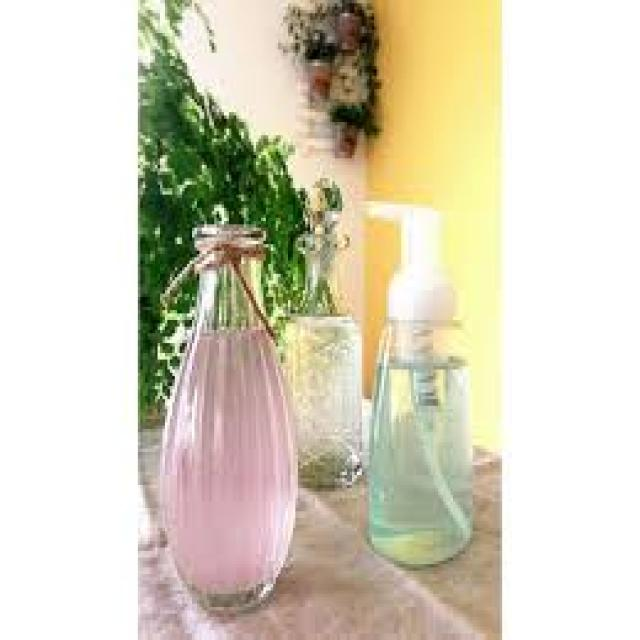liquid soap: (349, 198, 485, 569)
